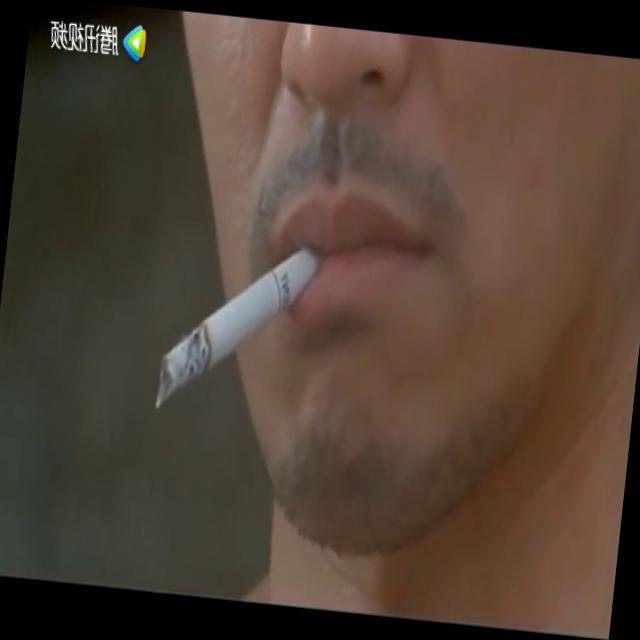cigarette: (149, 211, 326, 434)
